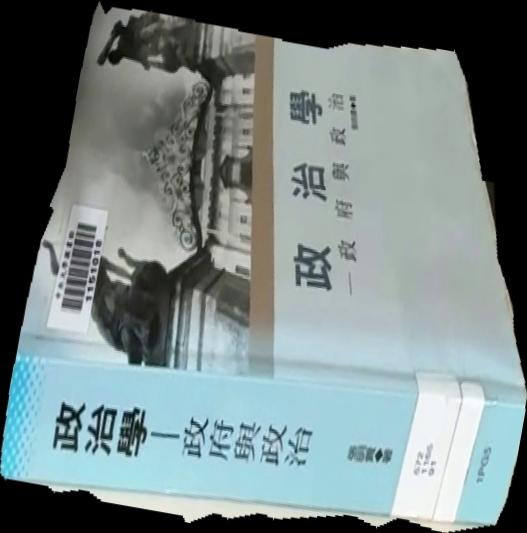flat: (1, 1, 527, 533)
